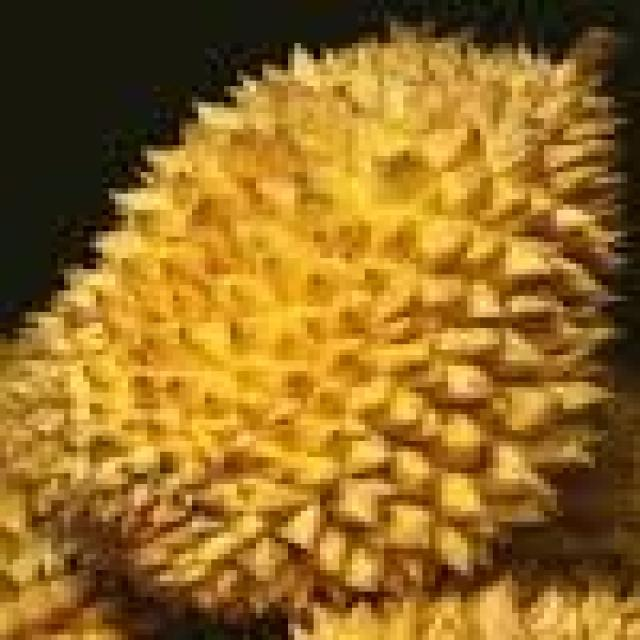mature: (0, 26, 618, 619)
